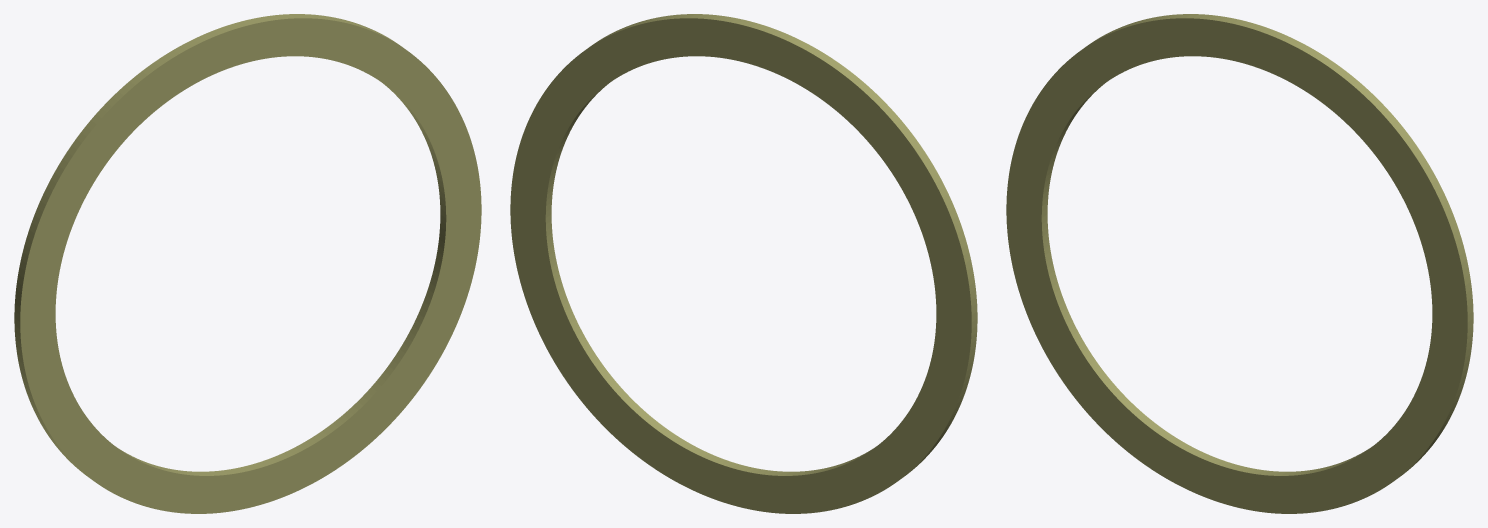
File: Actuator_Shim.obj
3 views of the same model, side by side, from view 1: azimuth 30°, elevation 25°; view 2: azimuth 150°, elevation 25°; view 3: azimuth 330°, elevation 25° (orthographic).
Parts seen in each view (by area): view 1: Actuator_Shim; view 2: Actuator_Shim; view 3: Actuator_Shim.
Part boxes in pixels (<box>): Actuator_Shim: <box>14,14,481,513</box>; Actuator_Shim: <box>510,14,977,513</box>; Actuator_Shim: <box>1006,14,1473,513</box>.
Bounding box in the file's own units: 27.4 × 27.4 × 0.6.
